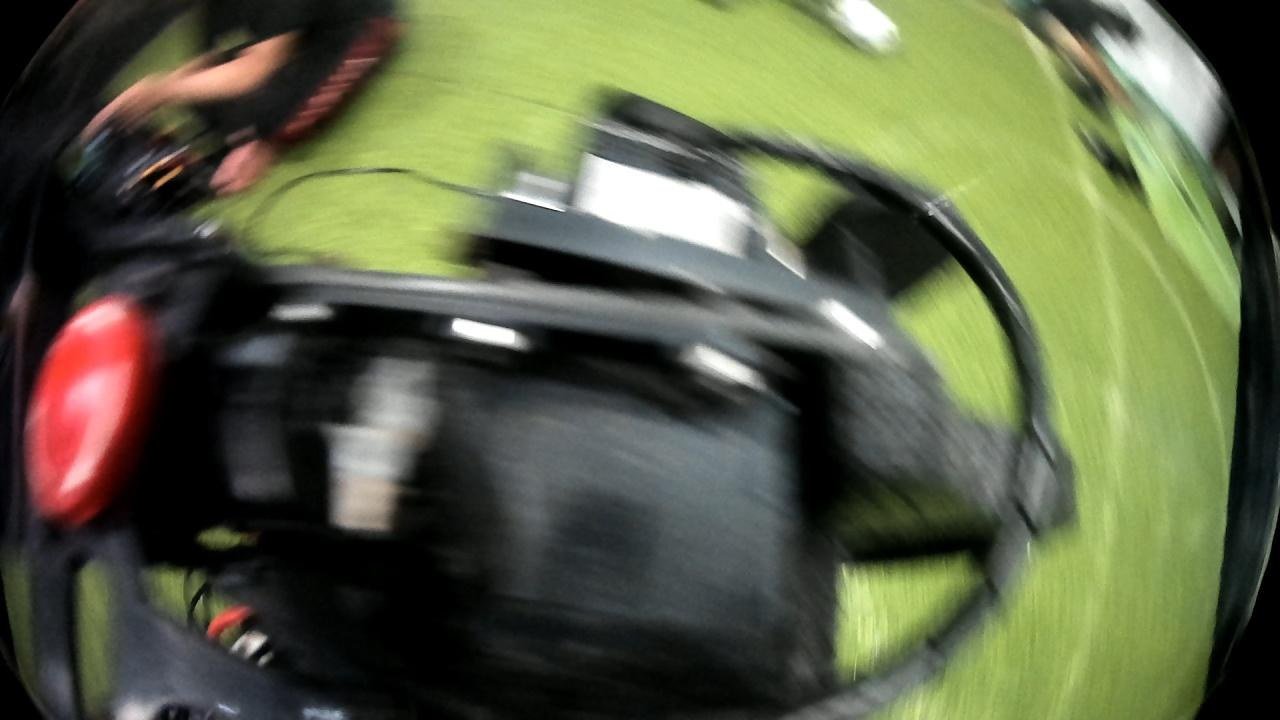ball: (828, 0, 908, 63)
